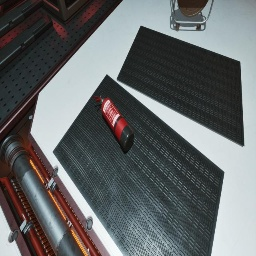FireExtinguisher ]: (93, 95, 134, 151)
